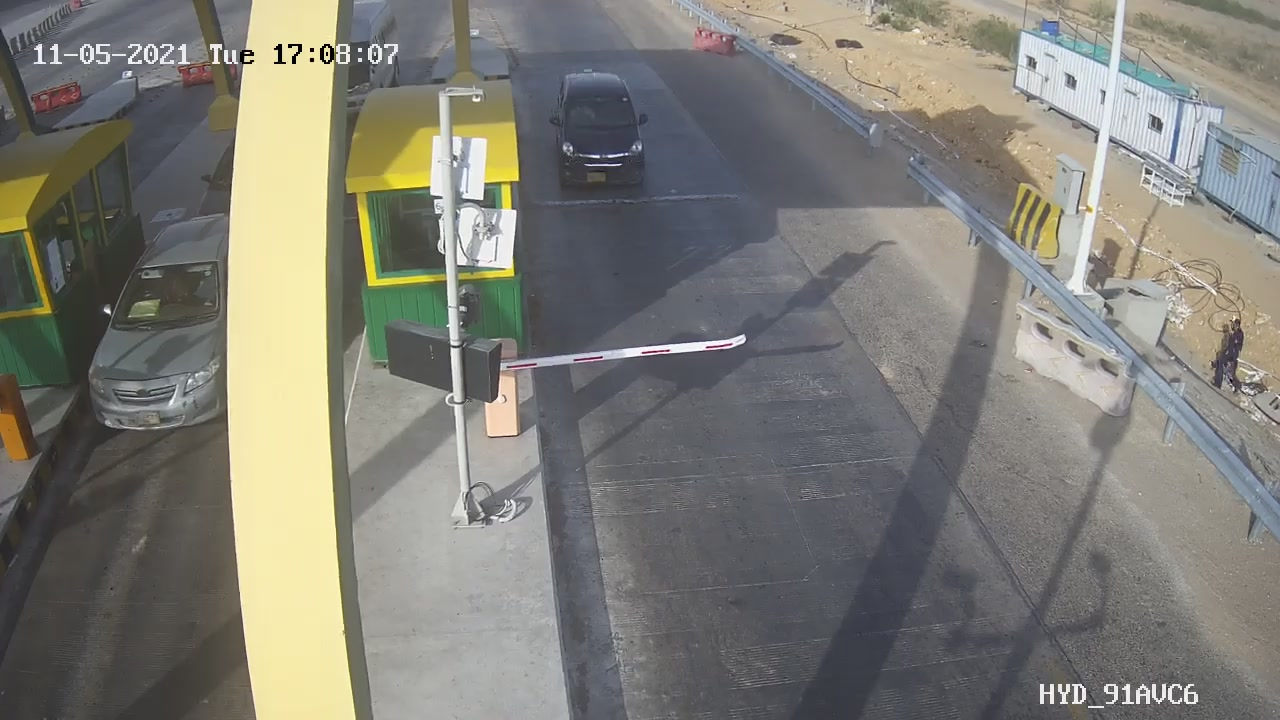F1: (535, 53, 672, 205)
